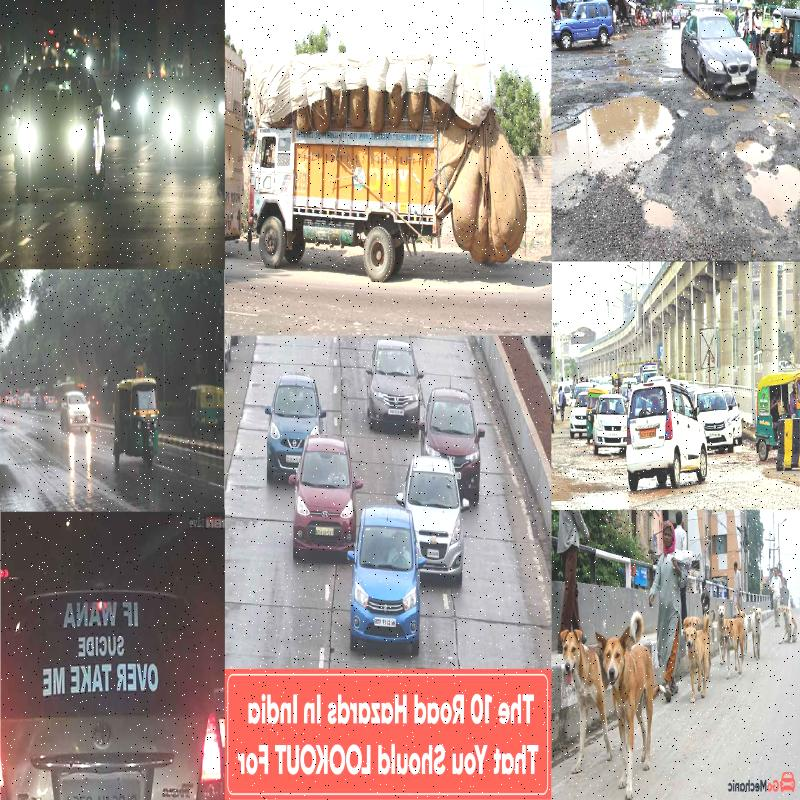auto: (111, 370, 174, 472)
car: (15, 75, 104, 202), (351, 504, 419, 665), (676, 7, 760, 123), (626, 372, 702, 488), (261, 350, 324, 479), (296, 417, 346, 561), (409, 453, 470, 563), (422, 378, 486, 476), (362, 334, 426, 427)
